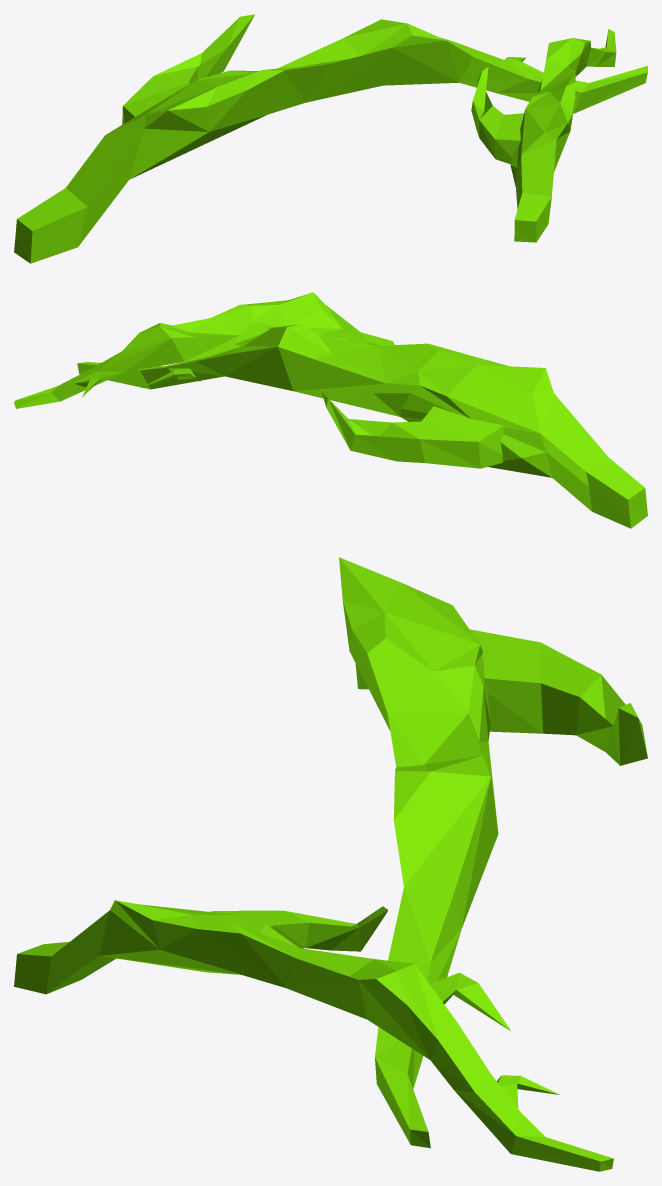
File: racine2.fbx
The picture shows the model from 3 angles, top to bottom: view 1: azimuth 30°, elevation 25°; view 2: azimuth 150°, elevation 25°; view 3: azimuth 270°, elevation 25°; orthographic projection. The views are drawn at different scales.
Parts seen in each view (by area): view 1: Cube.018, Cube.019; view 2: Cube.018, Cube.019; view 3: Cube.018, Cube.019.
Part boxes in pixels (x1=…): Cube.018: x1=14, y1=14, x2=647, y2=263; Cube.019: x1=471, y1=29, x2=616, y2=242; Cube.018: x1=77, y1=324, x2=647, y2=528; Cube.019: x1=14, y1=292, x2=394, y2=408; Cube.018: x1=339, y1=557, x2=647, y2=1148; Cube.019: x1=14, y1=900, x2=613, y2=1171.
Size of the model in its own units: 568 by 113 by 288.
